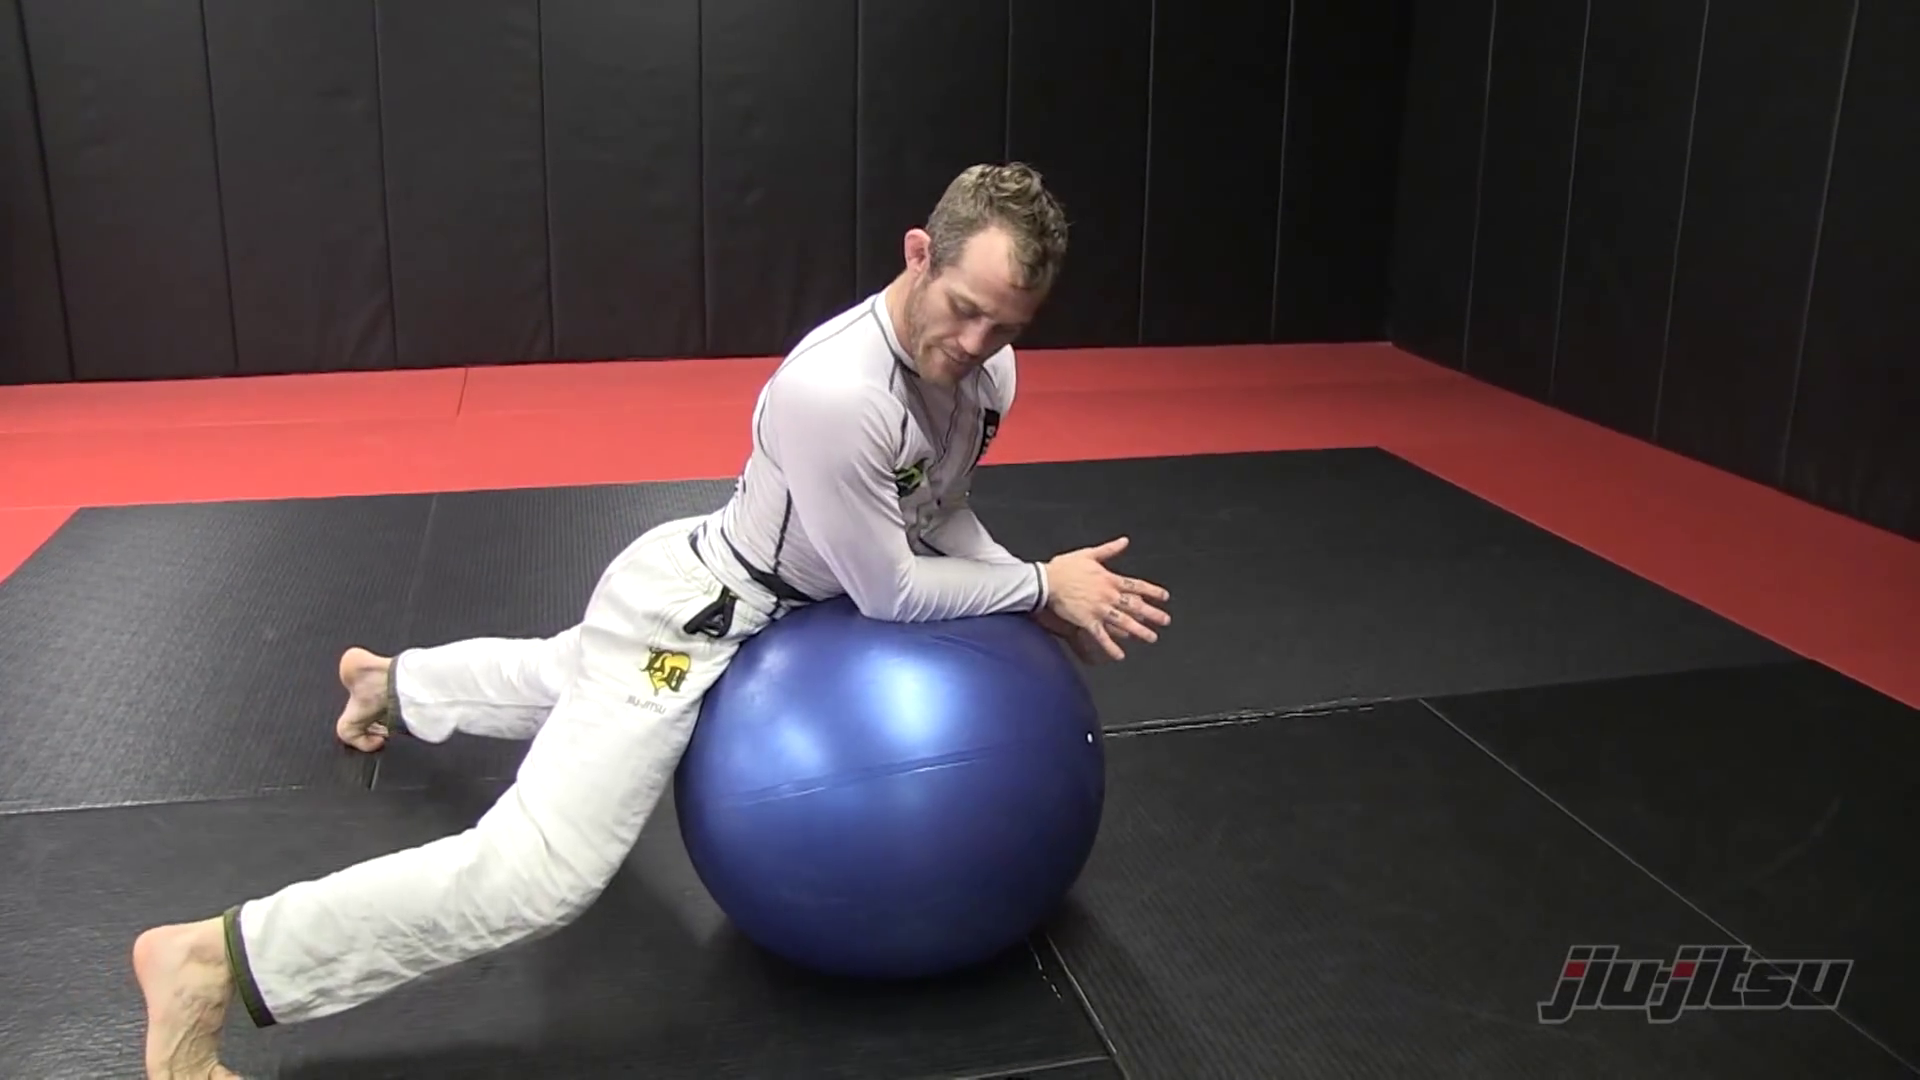yogaball: (678, 574, 1120, 992)
